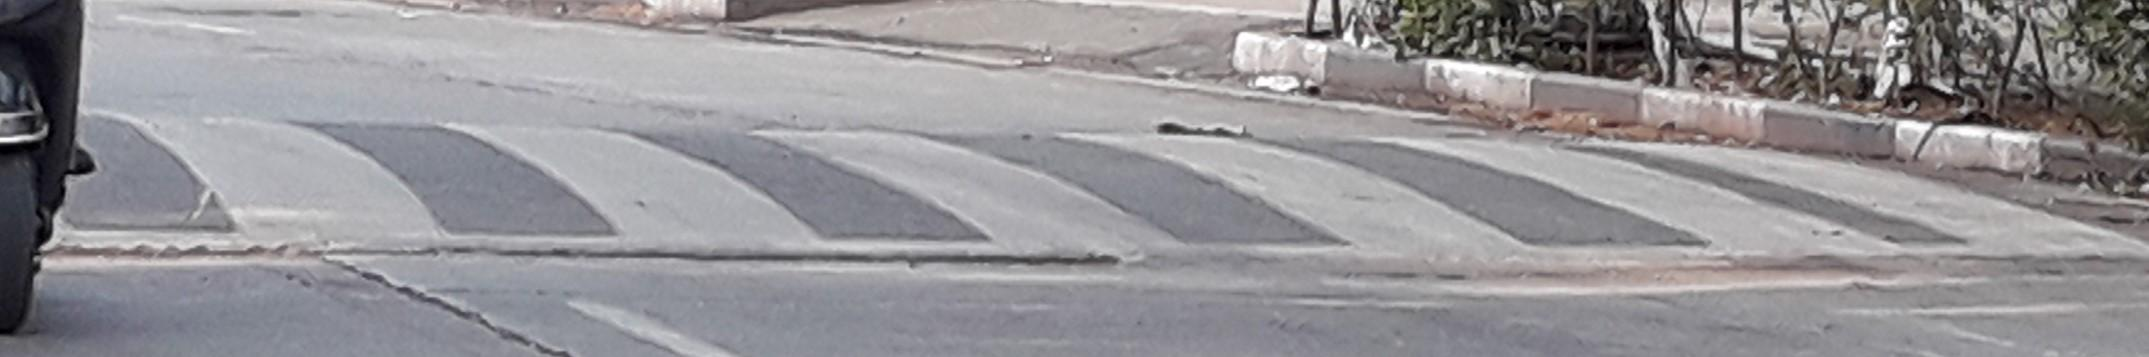speed-bump: (60, 107, 2145, 253)
